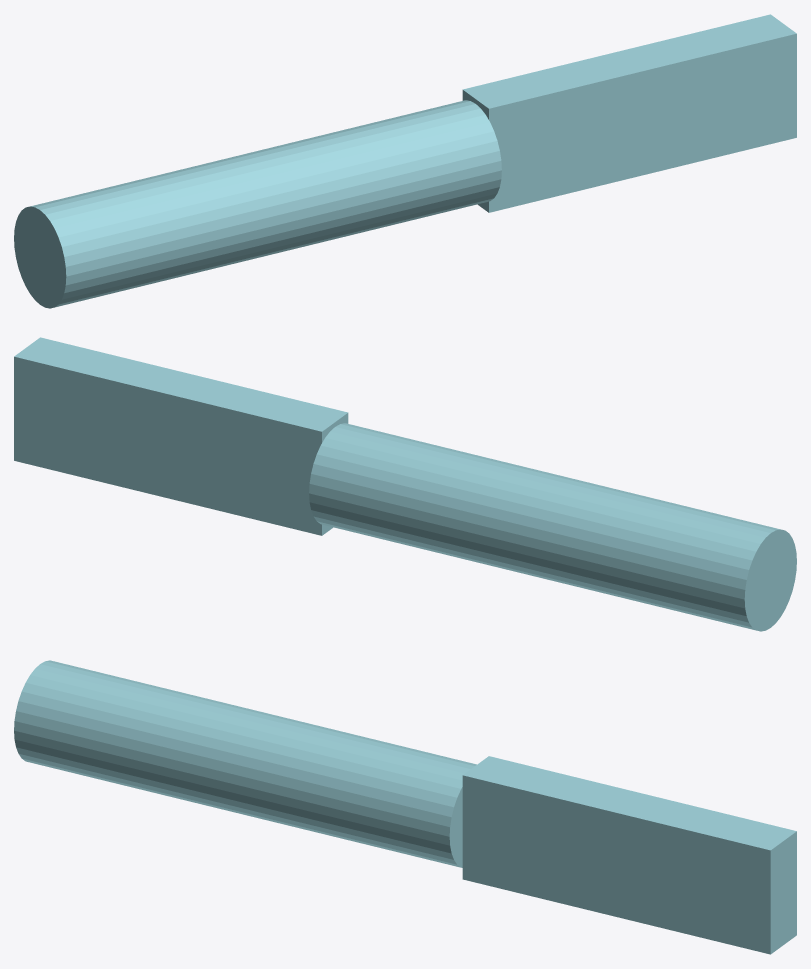
Rendered from cylinder_spatula_v6003.obj.
3 renders of one model, top to bottom at view 1: azimuth 30°, elevation 25°; view 2: azimuth 150°, elevation 25°; view 3: azimuth 330°, elevation 25°, orthographic.
Size of the model in its own units: 0.326 by 0.0436 by 0.0397.
1 material, 1 textured.
